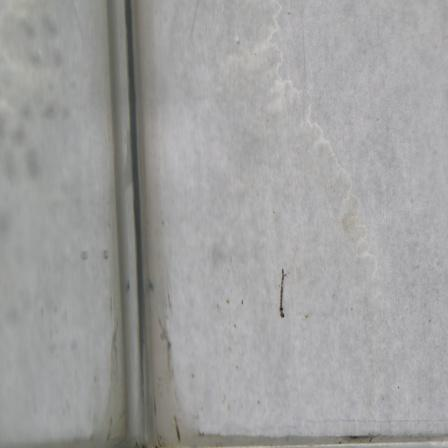Jentik-Nyamuk: (274, 264, 293, 322)
